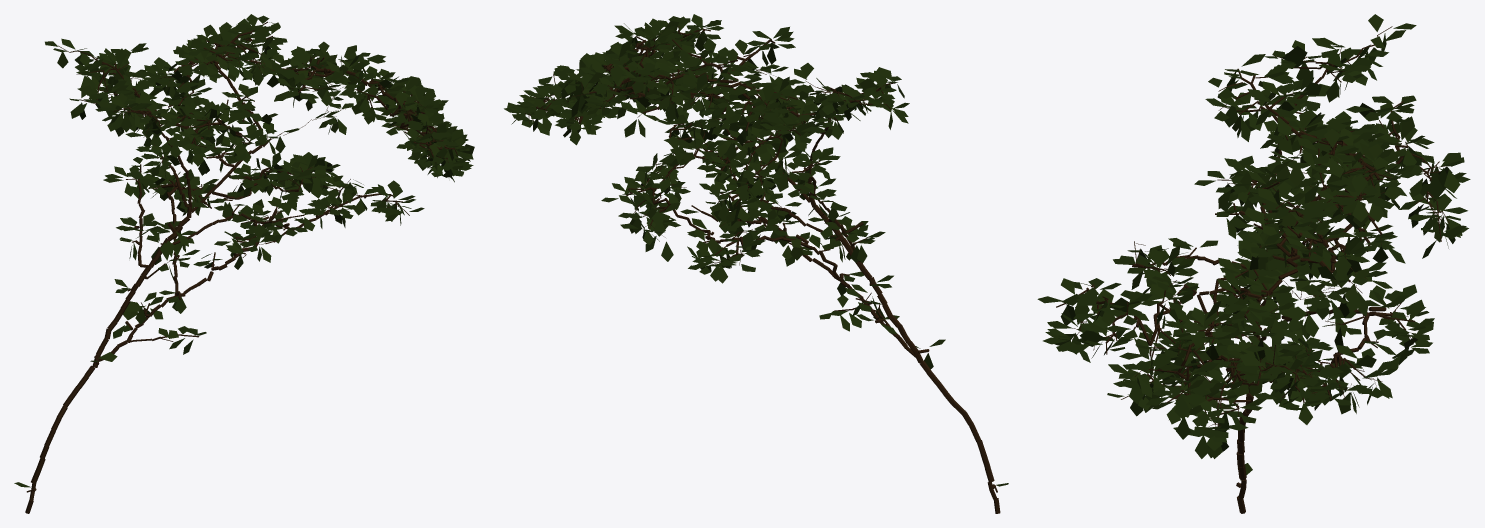
File: tree_465.obj
3 views of the same model, side by side, from view 1: azimuth 30°, elevation 25°; view 2: azimuth 150°, elevation 25°; view 3: azimuth 270°, elevation 25° (orthographic). The views are drawn at different scales.
Visible parts, largest first — view 1: Leaves, TrunkAndBranches; view 2: Leaves, TrunkAndBranches; view 3: Leaves, TrunkAndBranches.
Boxes of the visible parts, left/top/right/bottom form: Leaves: left=14, top=14, right=474, bottom=487; TrunkAndBranches: left=25, top=21, right=457, bottom=513; Leaves: left=504, top=14, right=1008, bottom=486; TrunkAndBranches: left=525, top=26, right=1000, bottom=513; Leaves: left=1037, top=14, right=1470, bottom=480; TrunkAndBranches: left=1056, top=26, right=1449, bottom=513.
Size of the model in its own units: 7.55 by 6.62 by 4.69.
